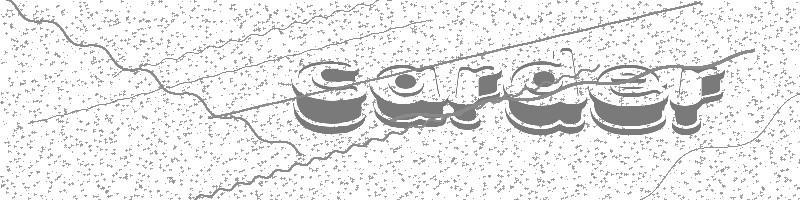a: (370, 64, 448, 129)
c: (290, 60, 369, 135)
d: (504, 47, 588, 136)
e: (589, 63, 668, 136)
r: (669, 64, 726, 136), (448, 65, 503, 131)
